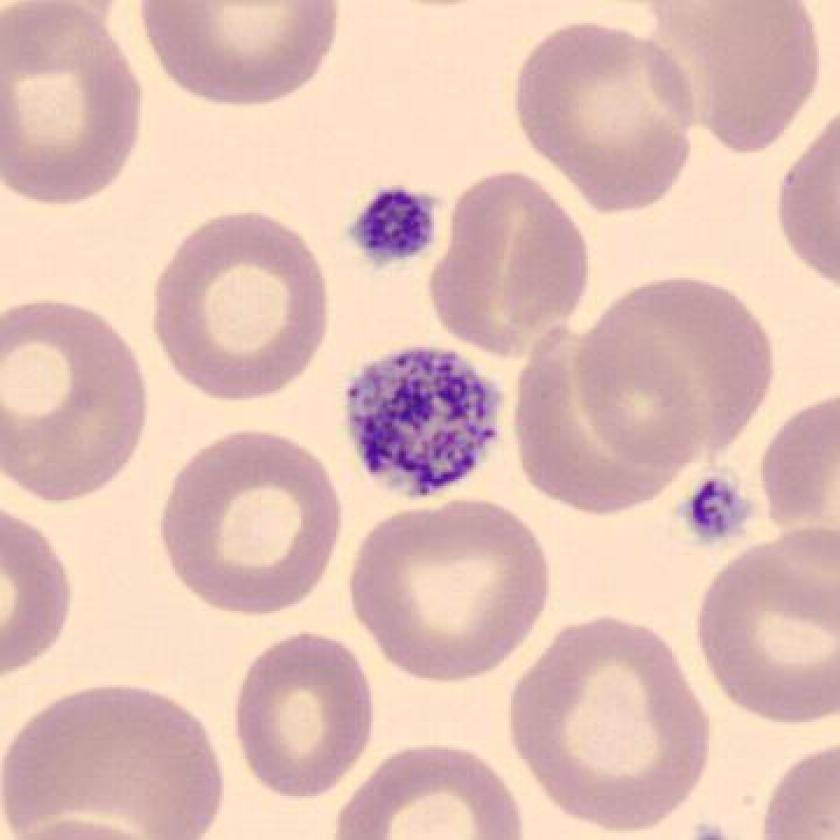platelets: (337, 337, 519, 503), (337, 172, 449, 279), (673, 464, 762, 556)
